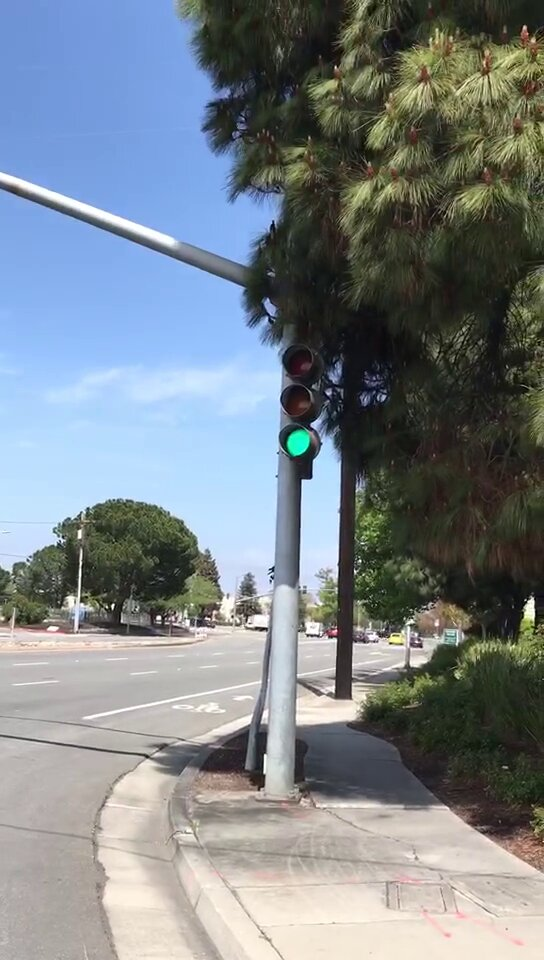green_light: (280, 344, 319, 460)
